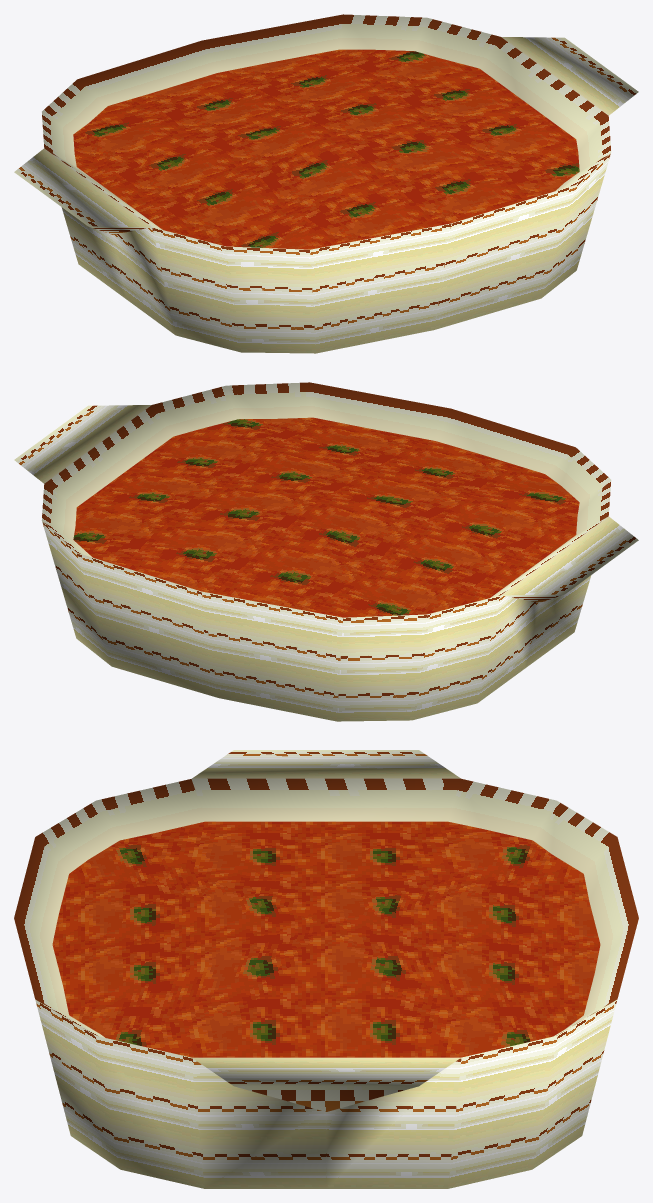
File: soup_r.gltf
3 renders of one model, top to bottom at view 1: azimuth 30°, elevation 25°; view 2: azimuth 150°, elevation 25°; view 3: azimuth 270°, elevation 25°, orthographic. The views are drawn at different scales.
Parts seen in each view (by area): view 1: soup_r; view 2: soup_r; view 3: soup_r.
Boxes of the visible parts, x1=… form: soup_r: x1=14, y1=14, x2=638, y2=353; soup_r: x1=14, y1=382, x2=638, y2=721; soup_r: x1=14, y1=750, x2=638, y2=1188.
Bounding box in the file's own units: 0.7324 × 0.1514 × 0.5752.
Materials: 2 (2 with a texture image).
